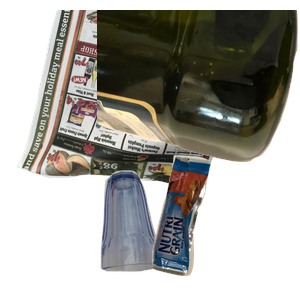glass: (98, 168, 251, 300)
paper: (14, 10, 254, 190)
plastic: (97, 10, 300, 165)
trash: (149, 152, 300, 300)
